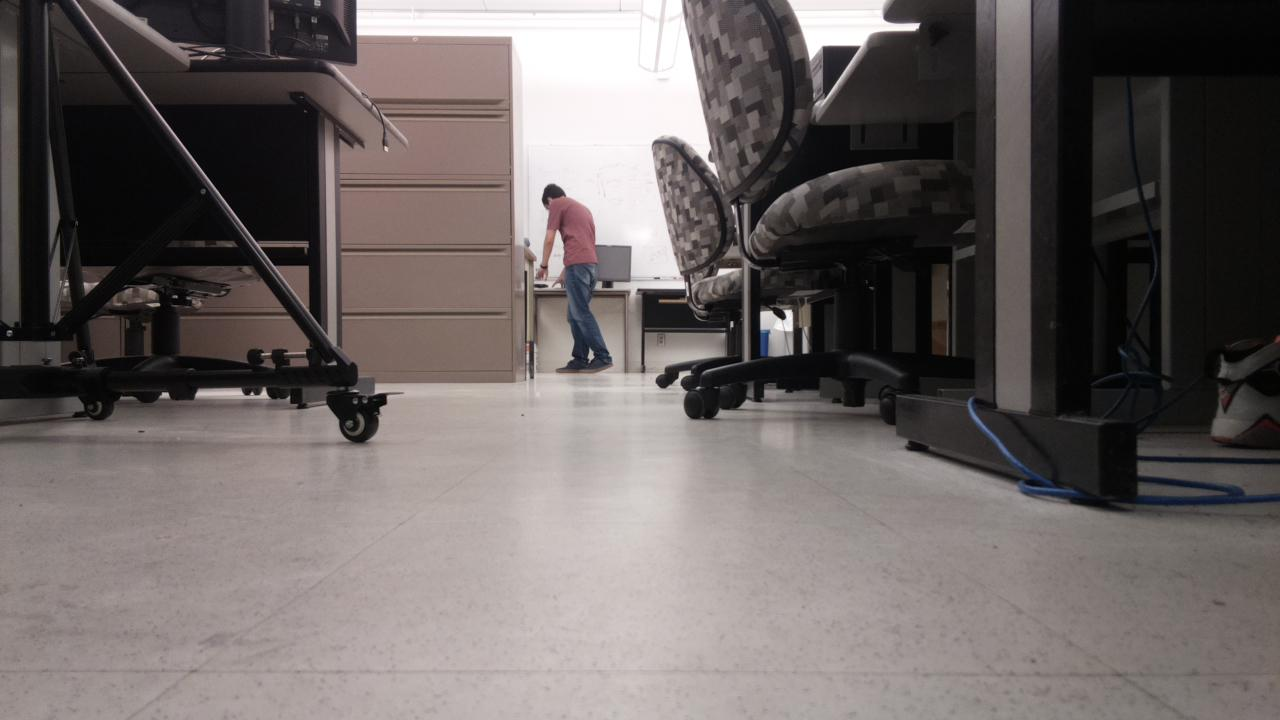person: (535, 184, 613, 373)
tvmonitor: (594, 245, 630, 280)
